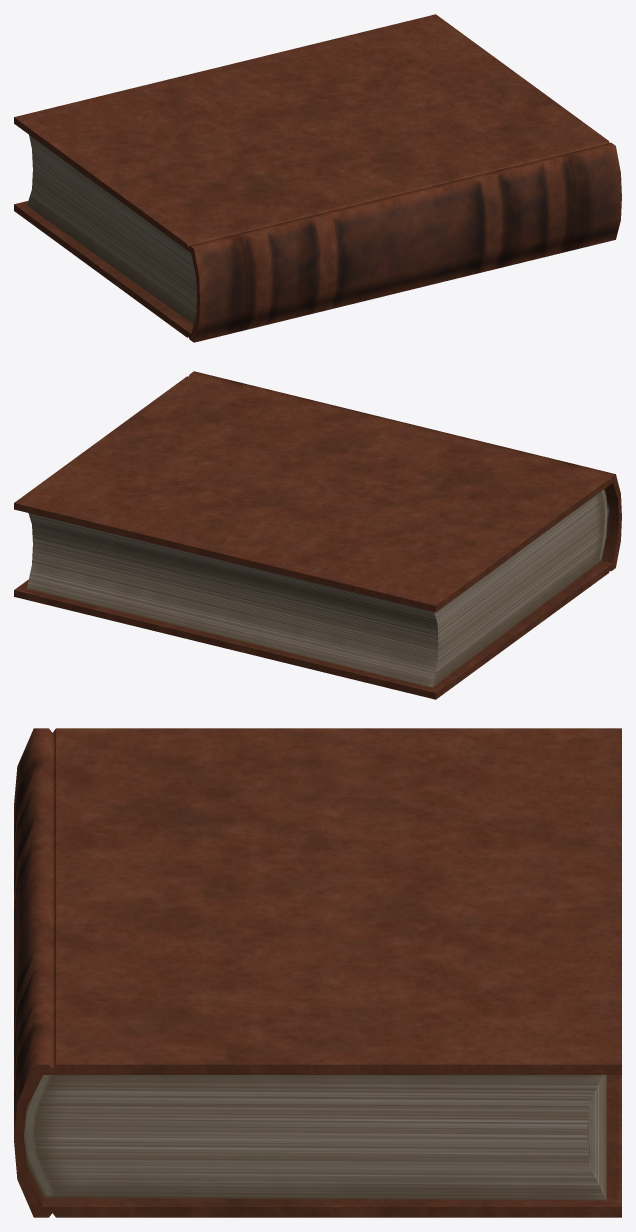
The model's file is book_4.FBX.
3 views of the same model, one above another, from view 1: azimuth 30°, elevation 25°; view 2: azimuth 150°, elevation 25°; view 3: azimuth 270°, elevation 25° (orthographic). The views are drawn at different scales.
Parts seen in each view (by area): view 1: Book_4; view 2: Book_4; view 3: Book_4.
Boxes of the visible parts, box(x1,y1,x2,y2) form: Book_4: box(14, 14, 621, 342); Book_4: box(14, 371, 621, 699); Book_4: box(14, 728, 621, 1217).
Bounding box in the file's own units: 0.1382 × 0.0294 × 0.1056.
1 material, 1 textured.
